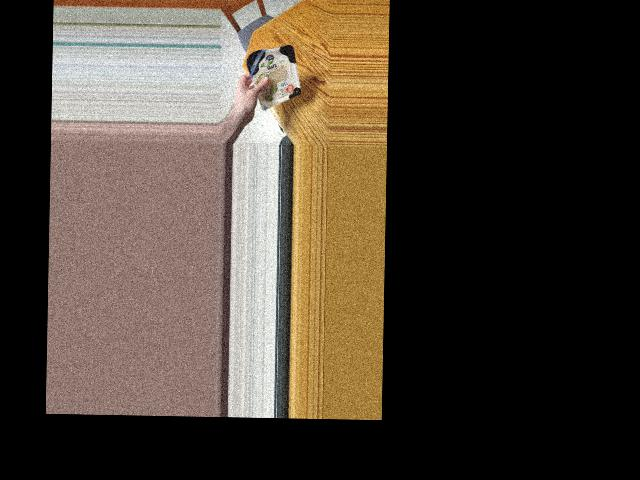cheese: (247, 46, 300, 100)
